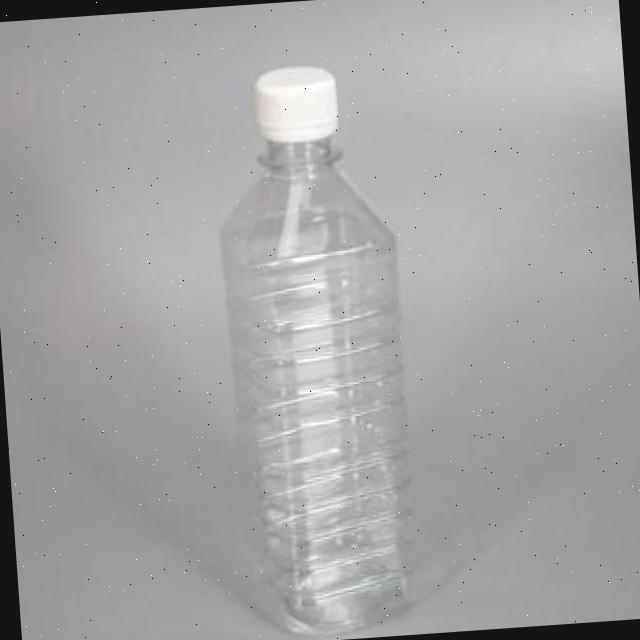bottle: (165, 35, 462, 640)
cap: (242, 63, 344, 153)
